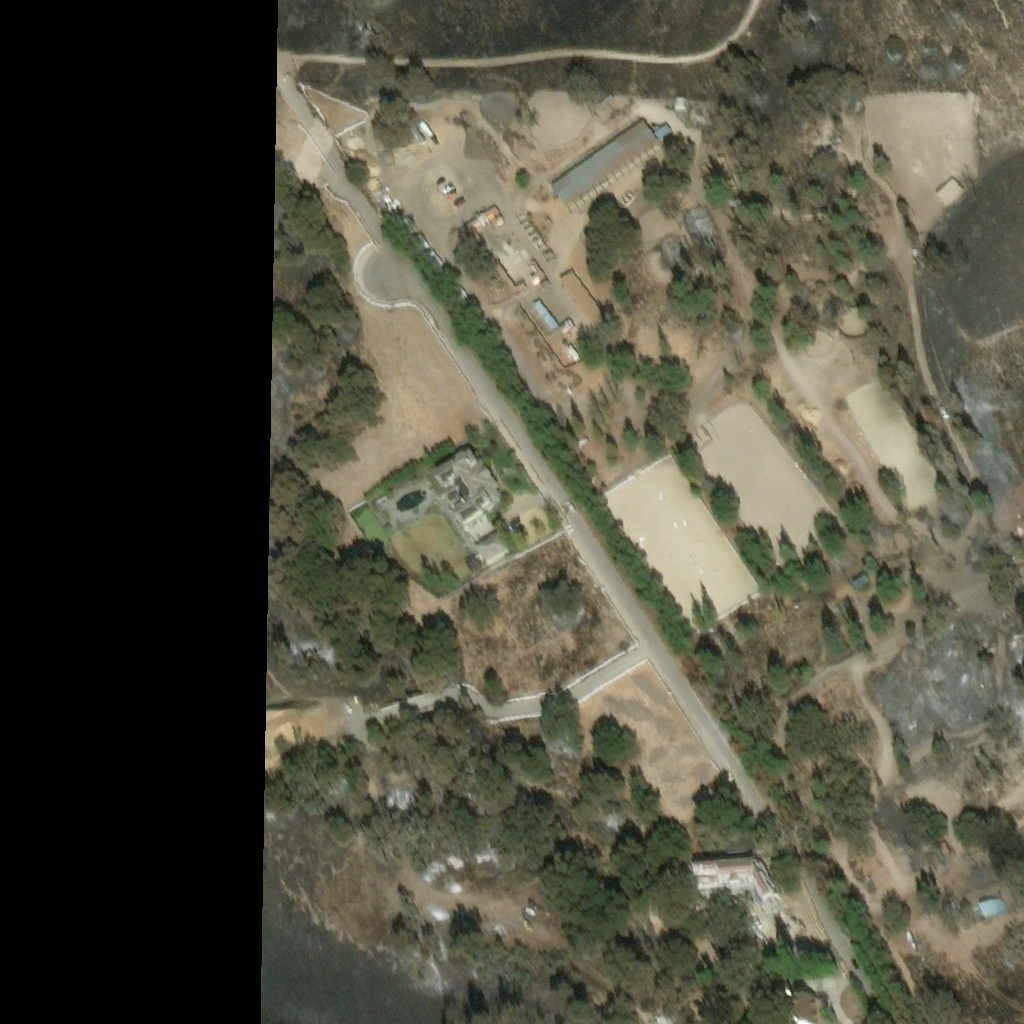0 no-damage: (398, 211, 503, 348), (549, 112, 655, 202), (688, 858, 784, 911), (435, 450, 501, 527), (559, 265, 616, 337), (681, 200, 724, 252), (516, 207, 553, 254), (463, 201, 503, 241), (661, 231, 692, 268), (476, 532, 510, 565), (787, 995, 827, 1023), (492, 258, 525, 291), (531, 295, 559, 328), (934, 171, 964, 199), (973, 887, 1003, 910), (698, 150, 727, 170), (597, 89, 617, 108), (850, 569, 870, 586), (653, 117, 671, 135), (529, 255, 542, 276), (408, 122, 423, 140), (565, 342, 579, 357), (673, 90, 685, 106), (691, 95, 703, 111), (1013, 515, 1023, 527)
3 destroyed: (642, 1005, 670, 1023)
4 un-classified: (945, 708, 961, 725), (1003, 502, 1013, 512)
